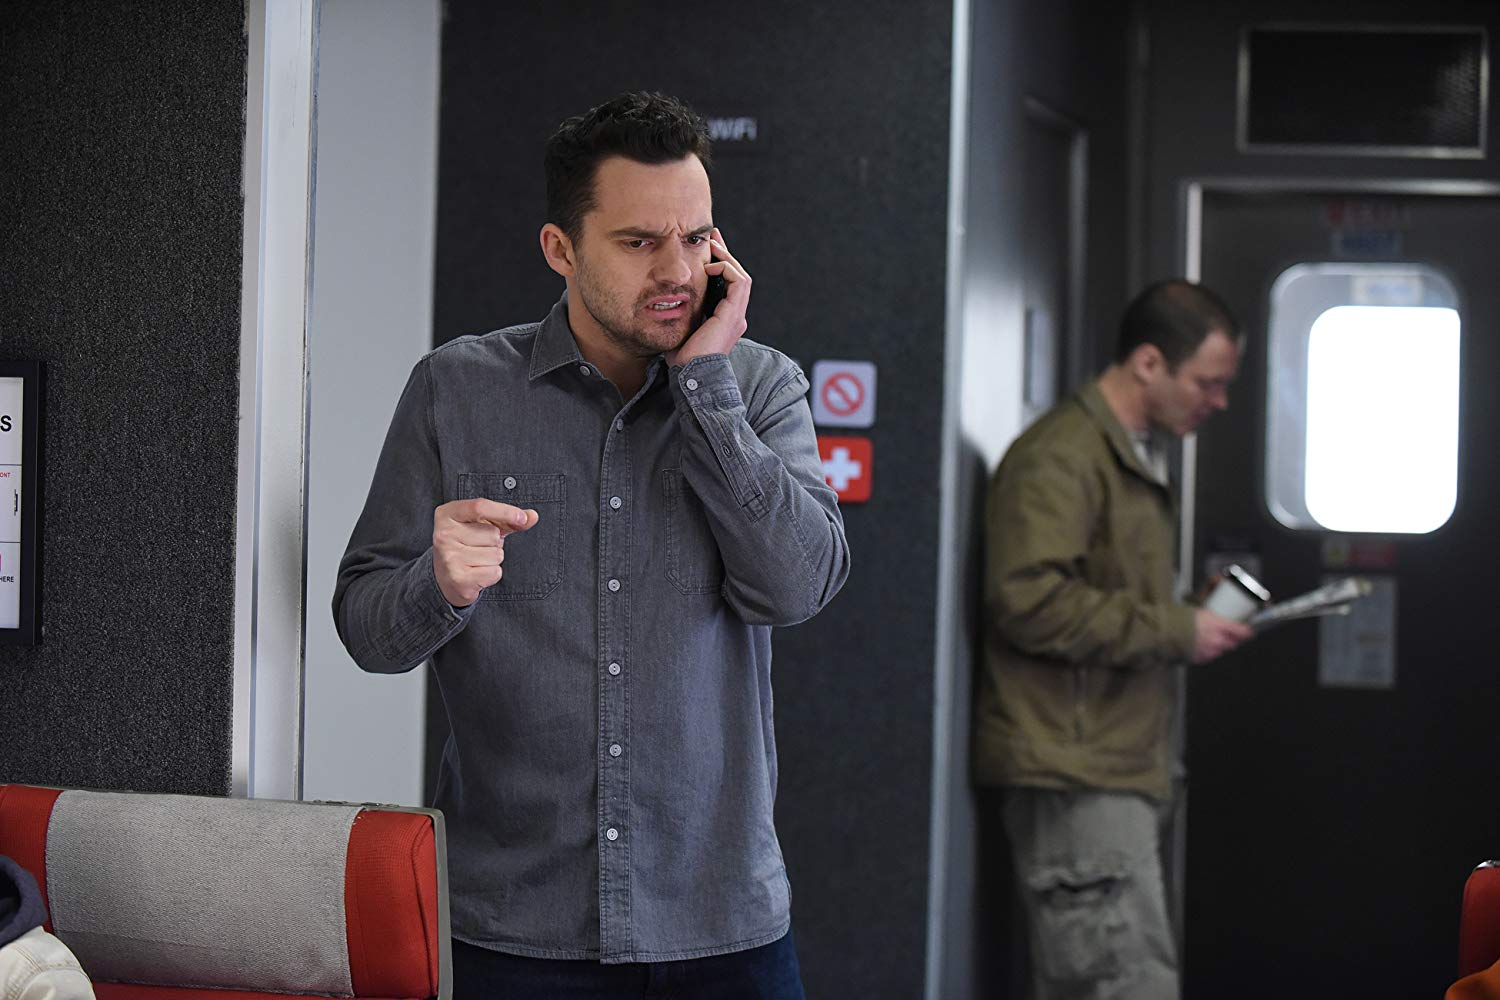person: (335, 90, 872, 988), (940, 268, 1310, 1000)
